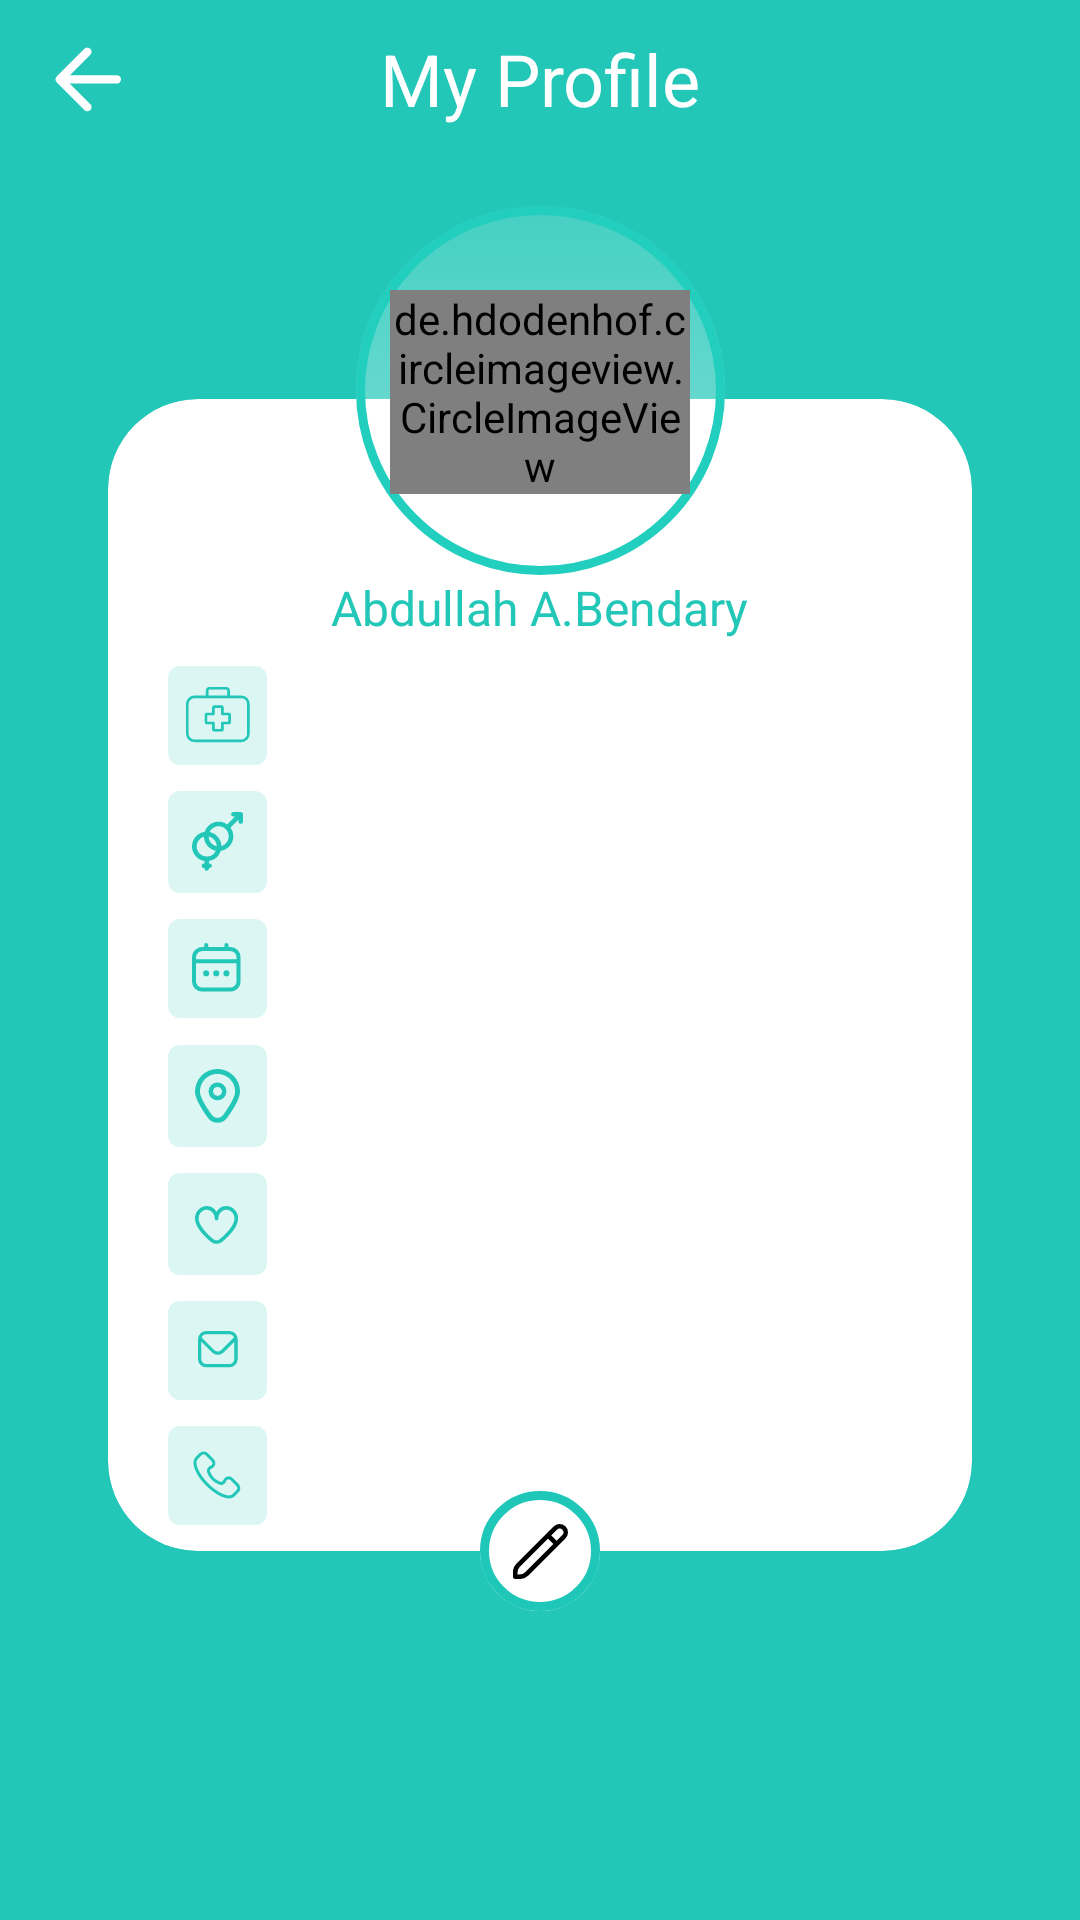

Screen size 1080px x 1920px. Icon name, then its center in pixels as (x,y):
arrow back: (88,79)
calendar: (217,968)
gander: (217,842)
location: (217,1096)
mail: (217,1350)
phone: (217,1475)
pincel: (540,1551)
specialist: (217,715)
